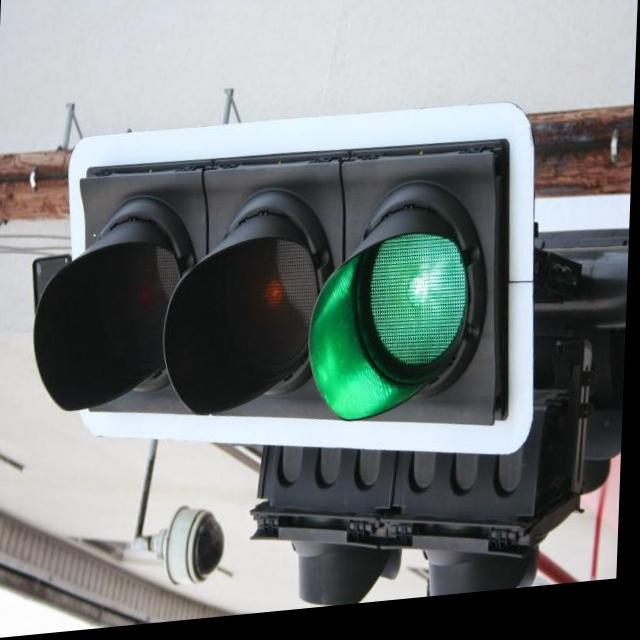green light: (36, 156, 510, 461)
